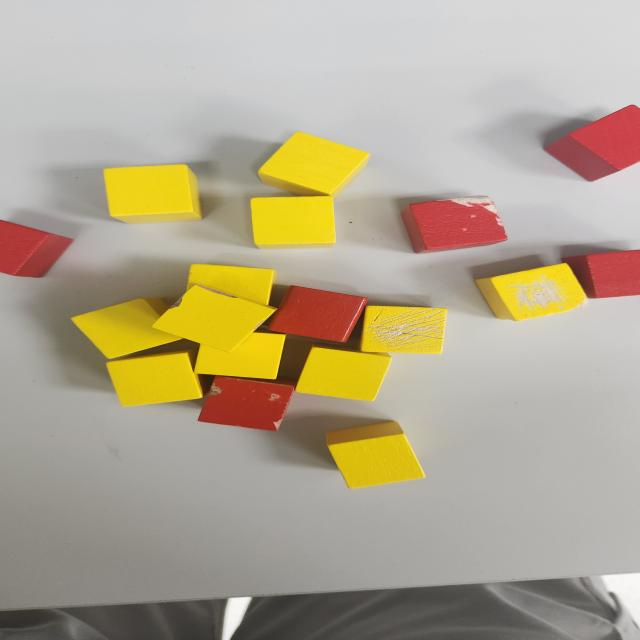broken: (150, 283, 280, 354), (474, 262, 588, 321), (401, 198, 508, 255), (198, 376, 296, 431), (360, 306, 447, 354)
red: (543, 103, 640, 183), (264, 286, 368, 340), (0, 218, 75, 278), (561, 250, 640, 299)
yellow: (258, 131, 371, 199), (324, 419, 427, 489), (70, 297, 181, 360), (102, 164, 204, 224), (106, 350, 204, 406), (294, 346, 392, 401), (195, 329, 286, 379), (250, 195, 336, 246), (185, 265, 277, 305)
